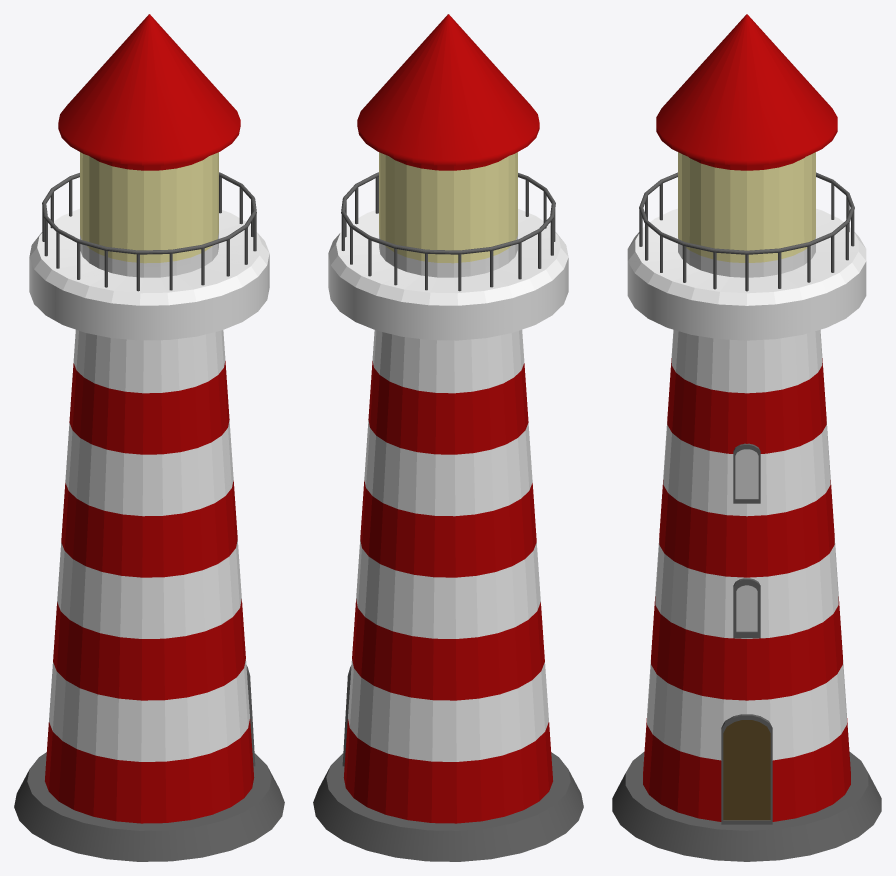
File: lighthouse.fbx
3 renders of one model, left to right at view 1: azimuth 30°, elevation 25°; view 2: azimuth 150°, elevation 25°; view 3: azimuth 270°, elevation 25°, orthographic.
Parts seen in each view (by area): view 1: lighthouse; view 2: lighthouse; view 3: lighthouse.
Part boxes in pixels (x1,y1,x2,y2): lighthouse: (14,14,284,861); lighthouse: (313,14,583,861); lighthouse: (612,14,881,861).
Bounding box in the file's own units: 13.11 × 42.22 × 13.02.
